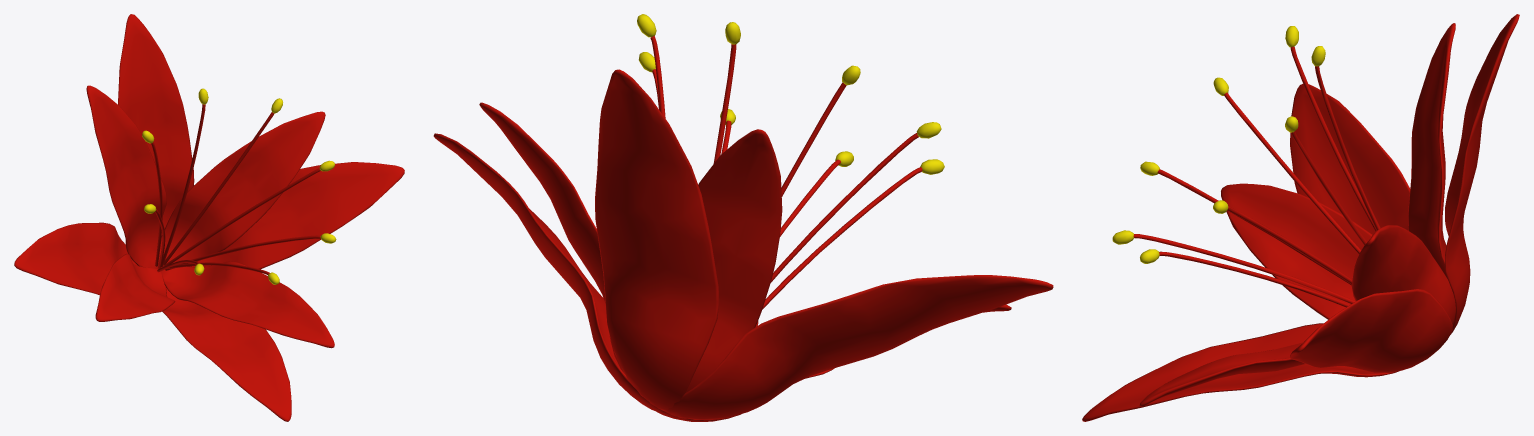
File: Lirio Sangue.fbx
The picture shows the model from 3 angles, left to right: view 1: azimuth 30°, elevation 25°; view 2: azimuth 150°, elevation 25°; view 3: azimuth 270°, elevation 25°; orthographic projection. The views are drawn at different scales.
Visible parts, largest first — view 1: Lirio Sangue - Low; view 2: Lirio Sangue - Low; view 3: Lirio Sangue - Low.
Part boxes in pixels (<box>): Lirio Sangue - Low: <box>14,14,404,421</box>; Lirio Sangue - Low: <box>433,14,1053,421</box>; Lirio Sangue - Low: <box>1082,14,1519,421</box>.
Bounding box in the file's own units: 178 × 127 × 124.
